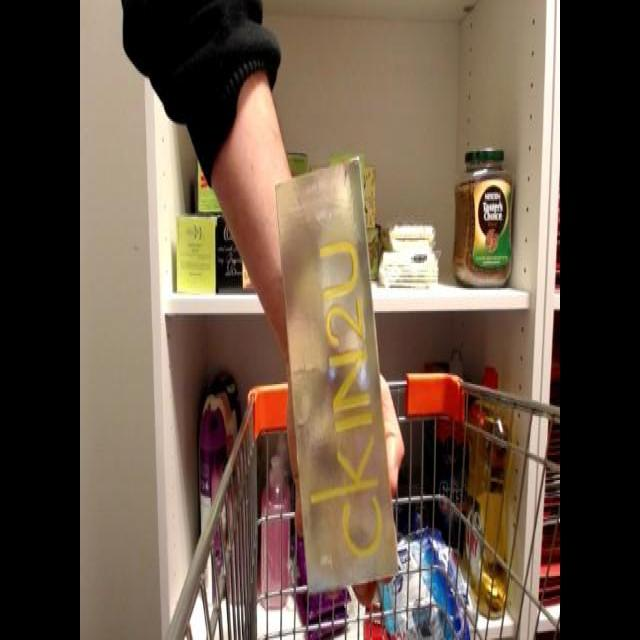Calvin Klein: (266, 156, 402, 594)
